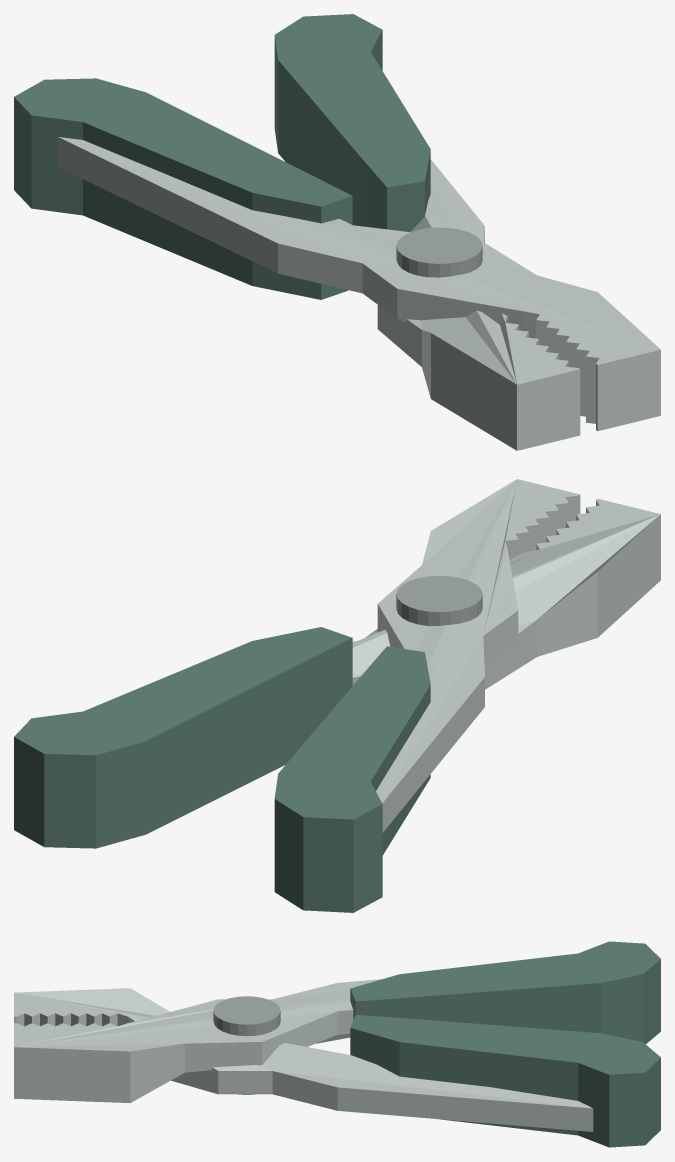
3 renders of one model, top to bottom at view 1: azimuth 30°, elevation 25°; view 2: azimuth 150°, elevation 25°; view 3: azimuth 270°, elevation 25°, orthographic. The views are drawn at different scales.
Parts seen in each view (by area): view 1: WholeCrossedSerratedJawAndHandleArm_-1, WholeClosedHandleOvergrip_-1, WholeClosedHandleOvergrip_1, WholeCrossedSerratedJawAndHandleArm_1, WholeUpperPivotRetainer; view 2: WholeClosedHandleOvergrip_1, WholeClosedHandleOvergrip_-1, WholeCrossedSerratedJawAndHandleArm_-1, WholeCrossedSerratedJawAndHandleArm_1, WholeUpperPivotRetainer; view 3: WholeClosedHandleOvergrip_1, WholeCrossedSerratedJawAndHandleArm_-1, WholeCrossedSerratedJawAndHandleArm_1, WholeClosedHandleOvergrip_-1, WholeUpperPivotRetainer.
Boxes of the visible parts, bbox=[...] form: WholeCrossedSerratedJawAndHandleArm_-1: bbox=[57, 137, 660, 431]; WholeClosedHandleOvergrip_-1: bbox=[14, 78, 352, 299]; WholeClosedHandleOvergrip_1: bbox=[274, 14, 430, 231]; WholeCrossedSerratedJawAndHandleArm_1: bbox=[377, 159, 580, 450]; WholeUpperPivotRetainer: bbox=[396, 227, 482, 277]; WholeClosedHandleOvergrip_1: bbox=[14, 627, 352, 848]; WholeClosedHandleOvergrip_-1: bbox=[274, 646, 430, 912]; WholeCrossedSerratedJawAndHandleArm_-1: bbox=[376, 479, 580, 832]; WholeCrossedSerratedJawAndHandleArm_1: bbox=[352, 498, 660, 689]; WholeUpperPivotRetainer: bbox=[396, 575, 482, 626]; WholeClosedHandleOvergrip_1: bbox=[350, 1014, 660, 1147]; WholeCrossedSerratedJawAndHandleArm_-1: bbox=[14, 979, 382, 1103]; WholeCrossedSerratedJawAndHandleArm_1: bbox=[14, 988, 593, 1131]; WholeClosedHandleOvergrip_-1: bbox=[350, 941, 660, 1044]; WholeUpperPivotRetainer: bbox=[213, 996, 280, 1036].
Bounding box in the file's own units: 0.122 × 0.031 × 0.25.
